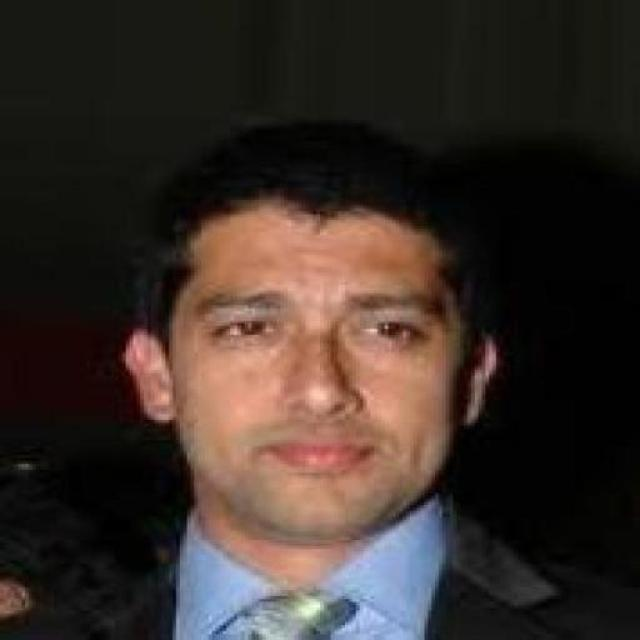bareface: (116, 122, 445, 539)
